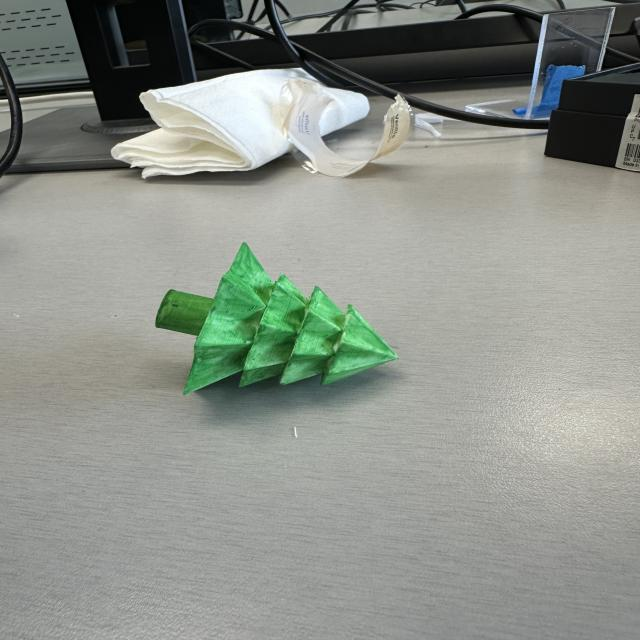tree: (154, 241, 403, 397)
